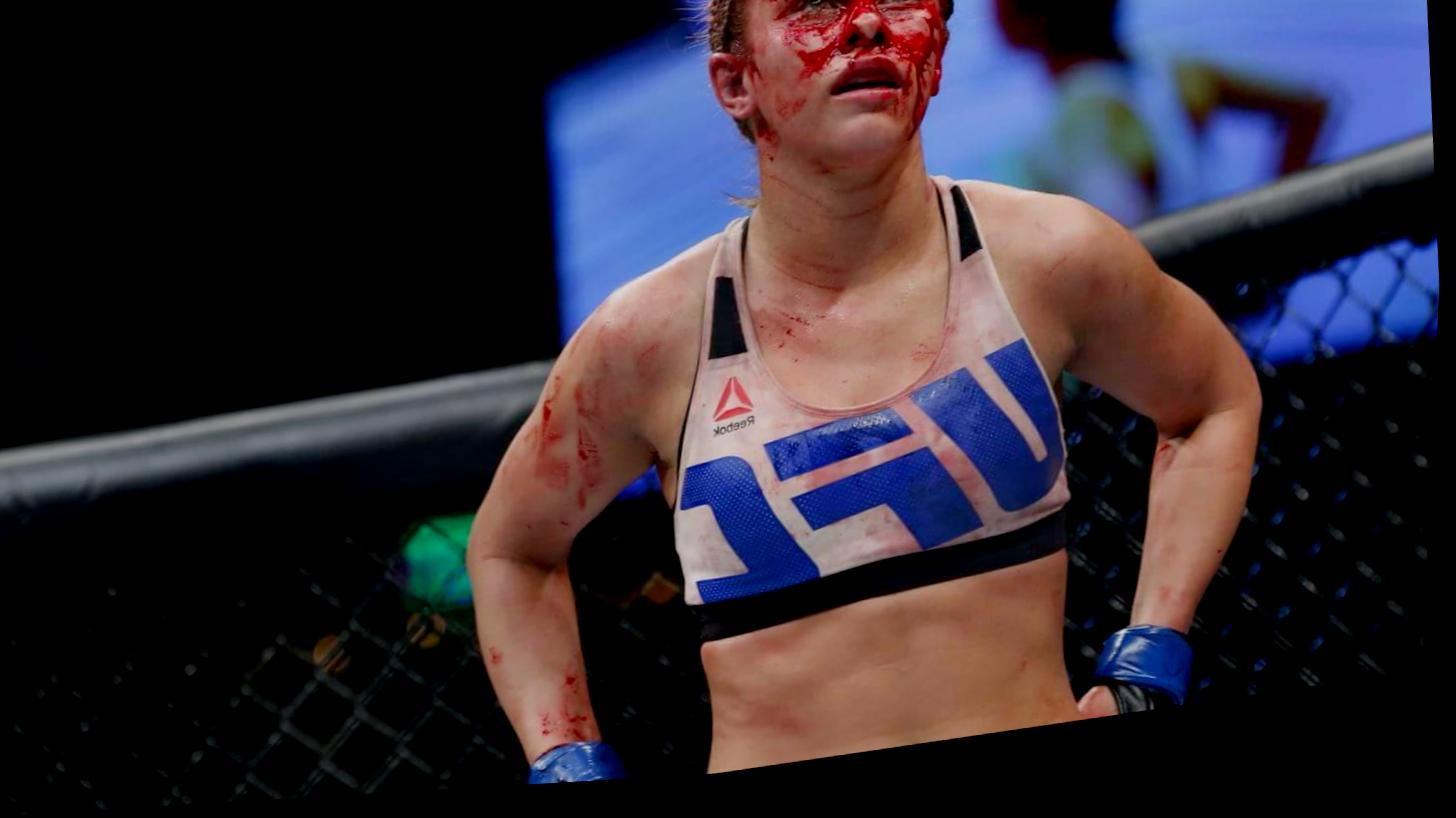Fire: (476, 300, 674, 768), (710, 0, 949, 180), (747, 257, 947, 418)
